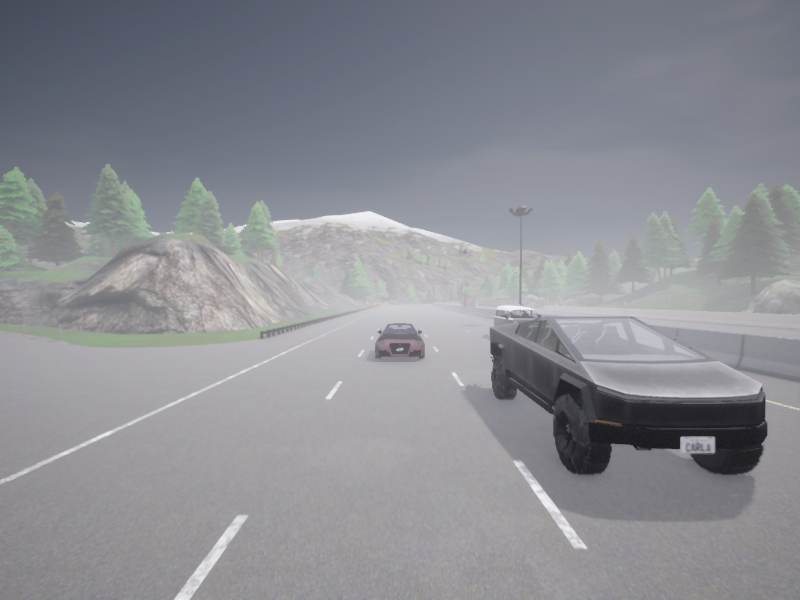vehicle: (490, 317, 767, 473), (375, 323, 424, 359), (494, 306, 540, 325), (461, 295, 474, 306), (460, 300, 461, 303)
